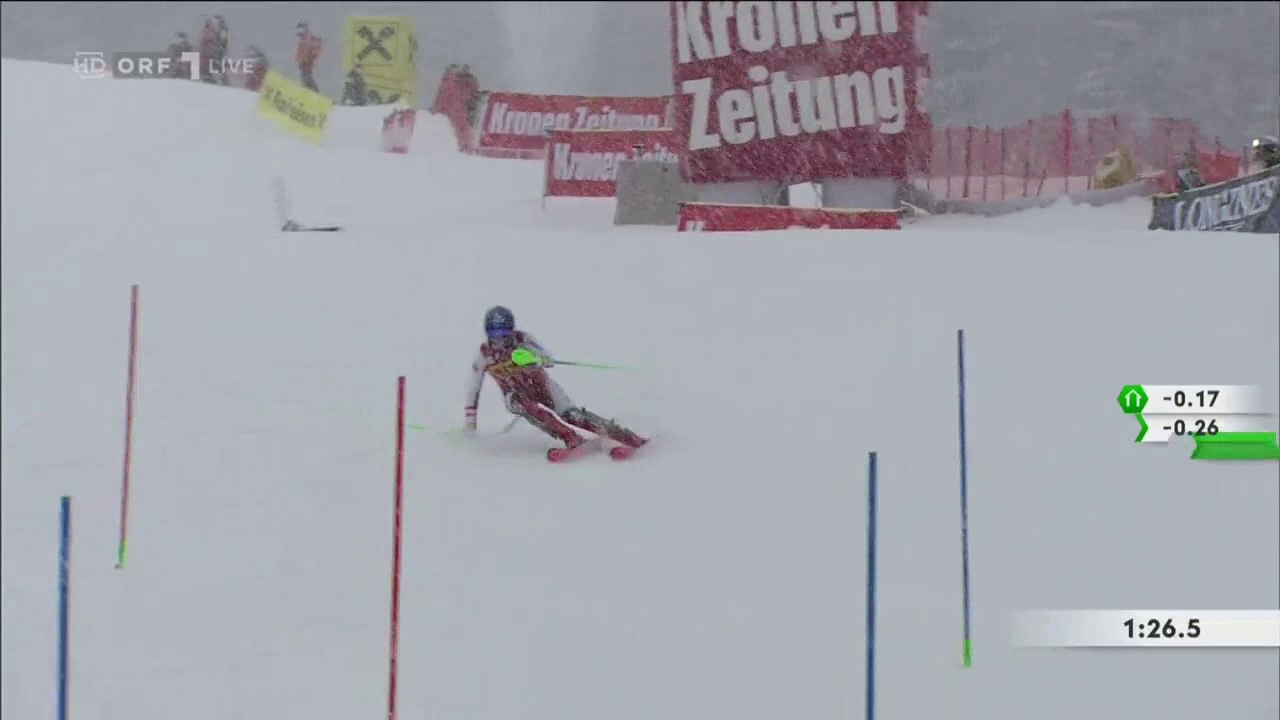kronenzeitung: (687, 2, 907, 153), (480, 100, 677, 141)
raiffeisen: (258, 80, 330, 133), (348, 22, 405, 68)
